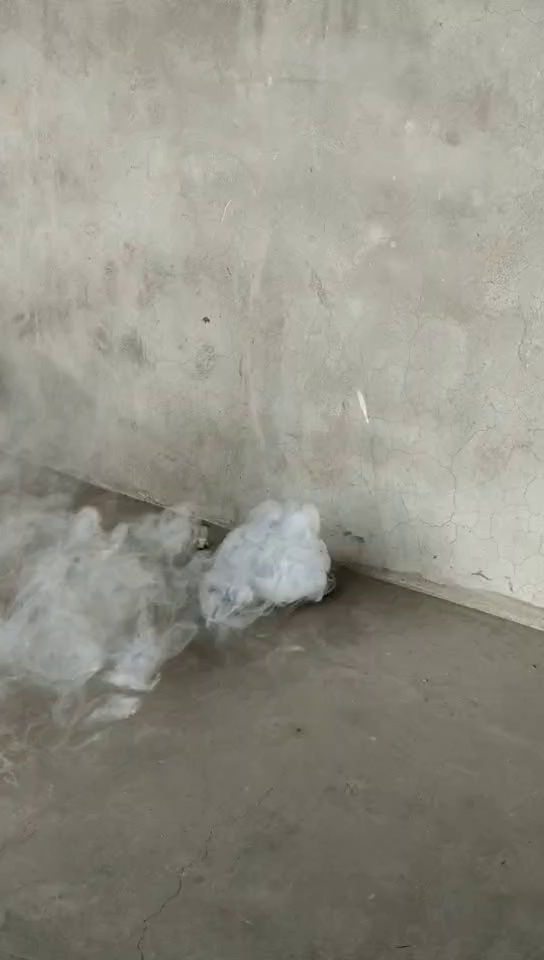smoke: (15, 469, 330, 702)
